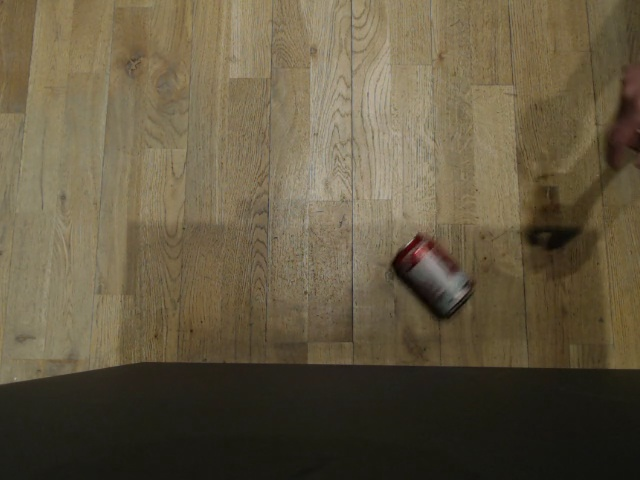coke: (388, 233, 476, 320)
